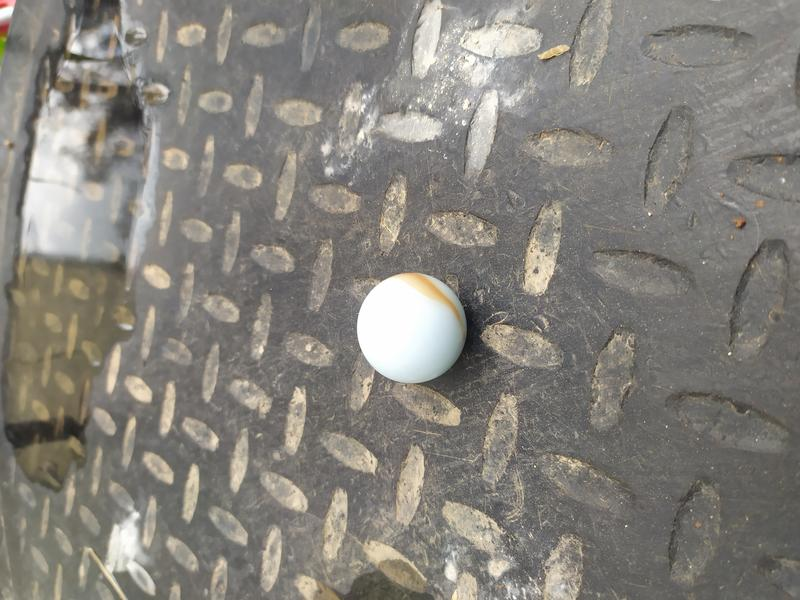Warning: (354, 270, 470, 386)
